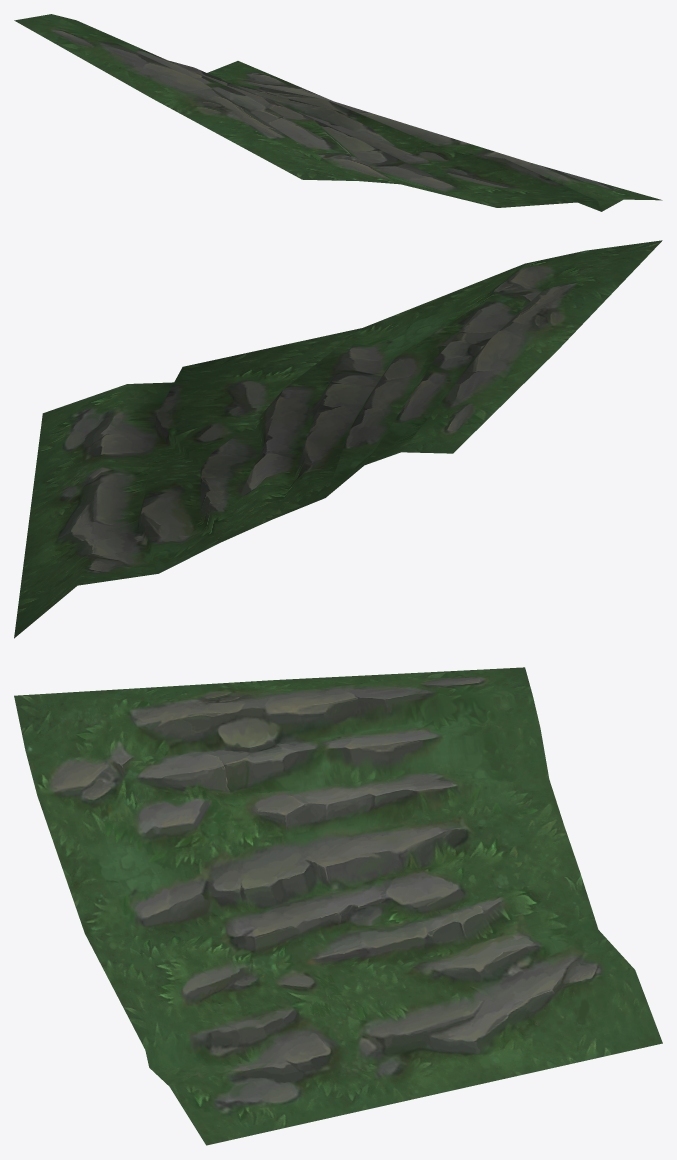
The picture shows the model from 3 angles, top to bottom: view 1: azimuth 30°, elevation 25°; view 2: azimuth 150°, elevation 25°; view 3: azimuth 270°, elevation 25°; orthographic projection. The views are drawn at different scales.
Parts seen in each view (by area): view 1: MB0002_20; view 2: MB0002_20; view 3: MB0002_20.
Boxes of the visible parts, x1=… form: MB0002_20: x1=14, y1=14, x2=662, y2=211; MB0002_20: x1=14, y1=240, x2=662, y2=638; MB0002_20: x1=14, y1=667, x2=662, y2=1145.
Bounding box in the file's own units: 0.3874 × 0.1446 × 0.399.
